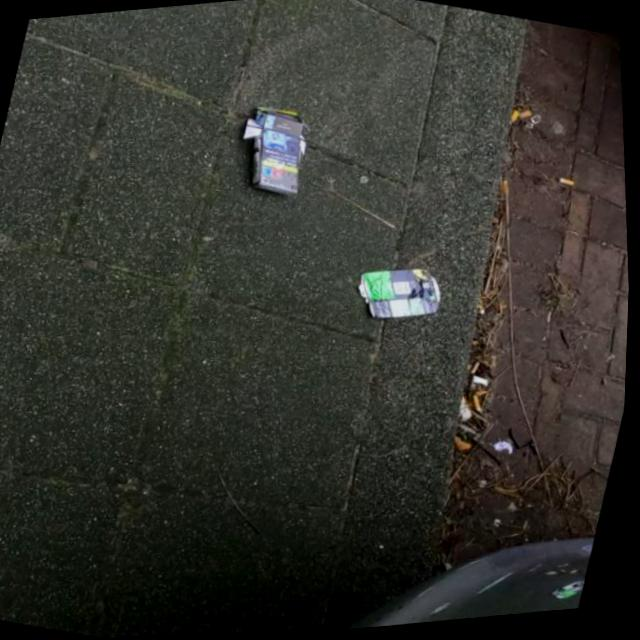Can-Metal: (355, 266, 446, 324)
Paper: (237, 100, 317, 202)
